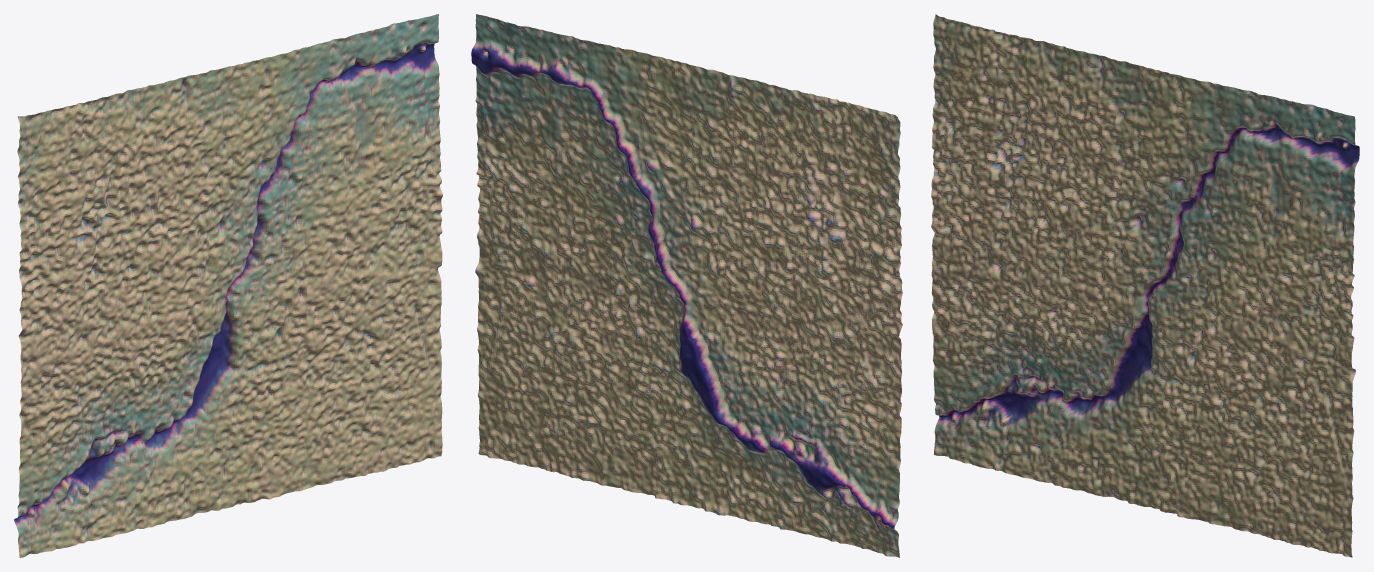
3 views of the same model, side by side, from view 1: azimuth 30°, elevation 25°; view 2: azimuth 150°, elevation 25°; view 3: azimuth 330°, elevation 25° (orthographic).
Visible parts, largest first — view 1: world; view 2: world; view 3: world.
Part boxes in pixels (<box>): world: <box>14,14,442,557</box>; world: <box>471,14,902,557</box>; world: <box>931,14,1359,557</box>.
Size of the model in its own units: 299 by 299 by 12.
